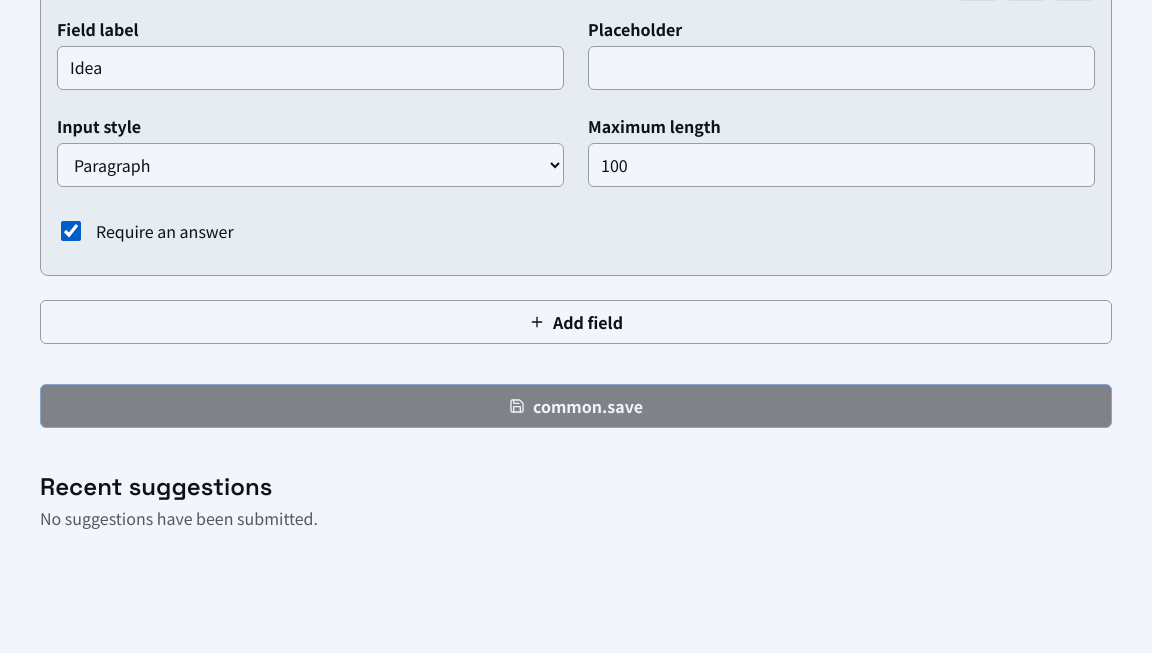
Test case: Suggestions settings › localizes field controls in en
(page scrolled)
Click the button "Add field" at [576, 322], box [40,300,1112,344]
(page scrolled)
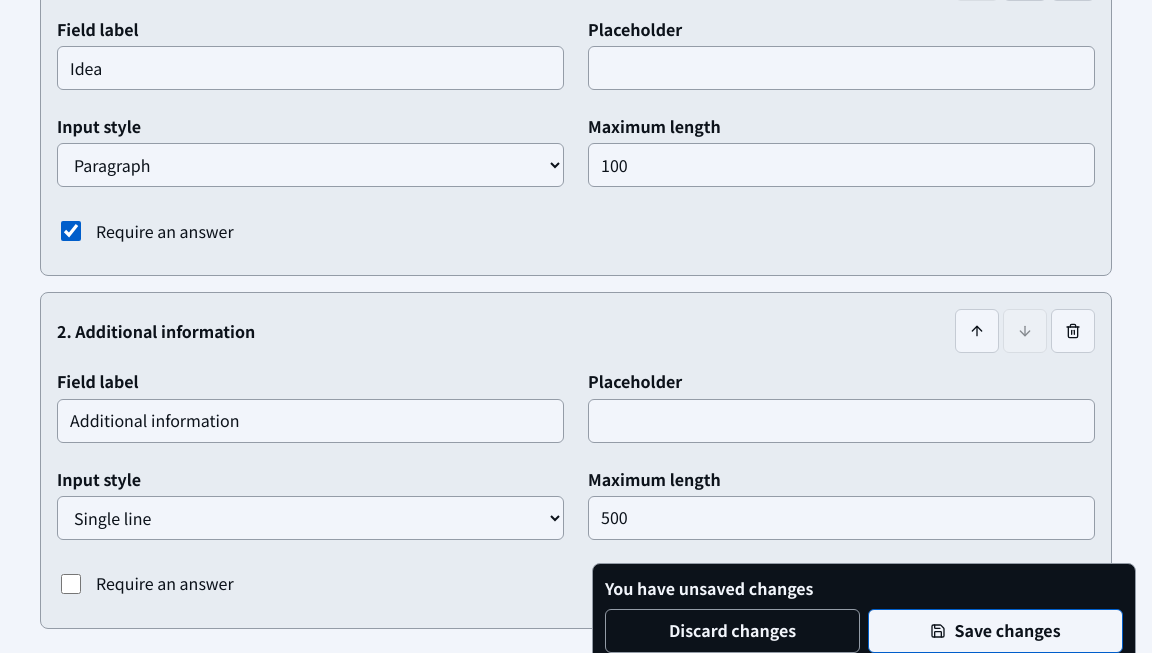
Result: the field showing "Additional information" below "Additional information" is shown at [57,399,564,443]
